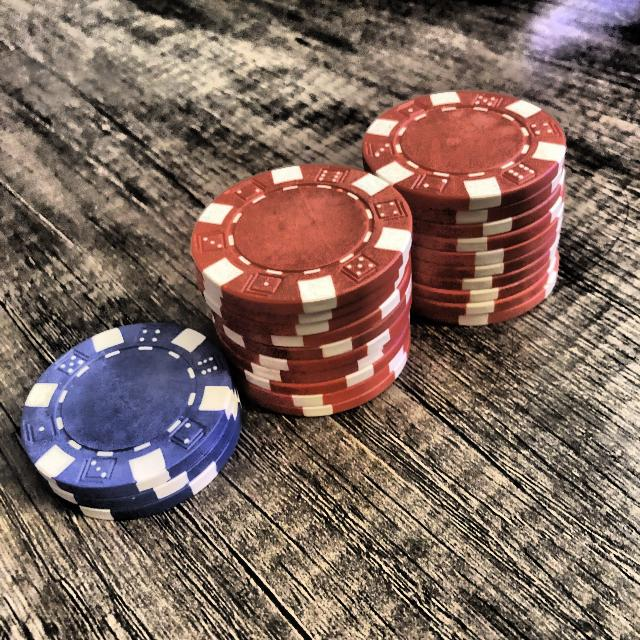Chip: (173, 148, 437, 426), (350, 75, 582, 334), (19, 290, 261, 528)
